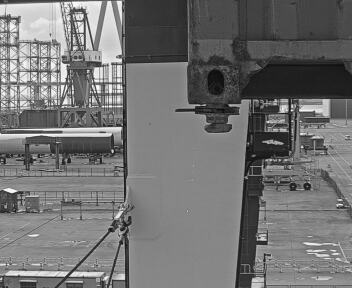twist_lock_1: (187, 100, 244, 140)
